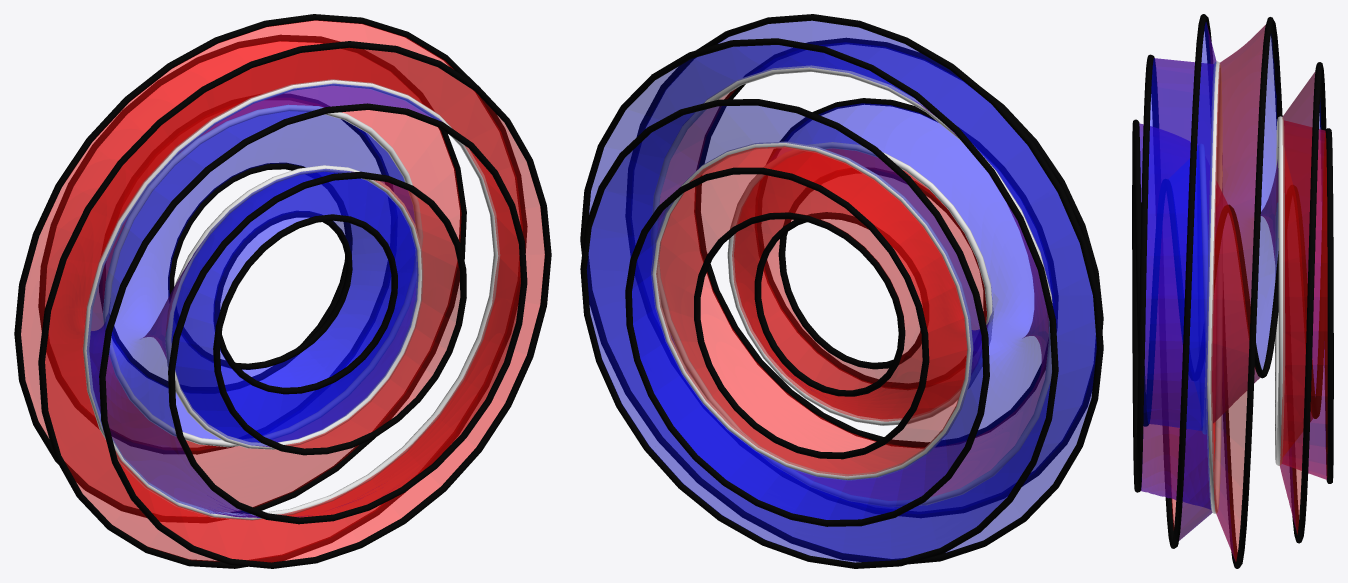
The model's file is l9_1_website.glb.
3 renders of one model, left to right at view 1: azimuth 30°, elevation 25°; view 2: azimuth 150°, elevation 25°; view 3: azimuth 270°, elevation 25°, orthographic. The views are drawn at different scales.
Parts seen in each view (by area): view 1: l9_1, boundary, singular_locus; view 2: l9_1, boundary, singular_locus; view 3: l9_1, boundary, singular_locus.
Part boxes in pixels (<box>): l9_1: <box>21,20,544,562</box>; boundary: <box>14,14,551,568</box>; singular_locus: <box>82,79,500,520</box>; l9_1: <box>586,20,1096,562</box>; boundary: <box>580,14,1103,568</box>; singular_locus: <box>651,65,1052,506</box>; l9_1: <box>1139,22,1327,561</box>; boundary: <box>1132,14,1333,568</box>; singular_locus: <box>1198,61,1285,513</box>.
Size of the model in its own units: 171 by 170 by 61.91.
